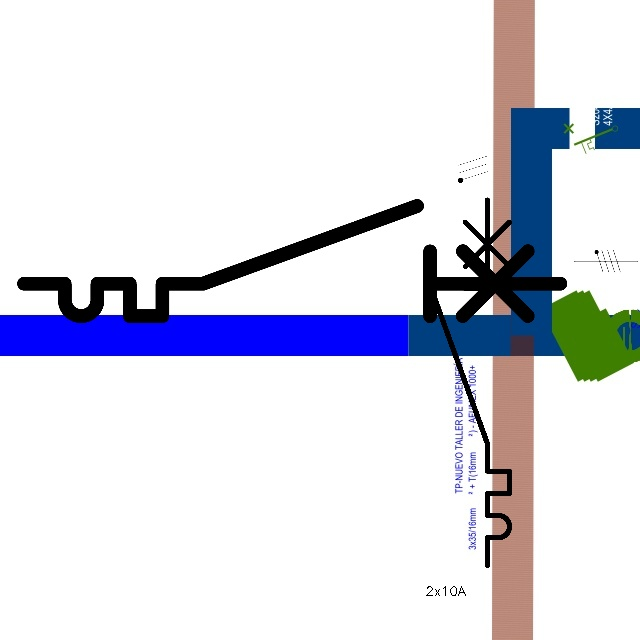interruptor_termomagnetico: (10, 192, 574, 330), (425, 190, 519, 575)
